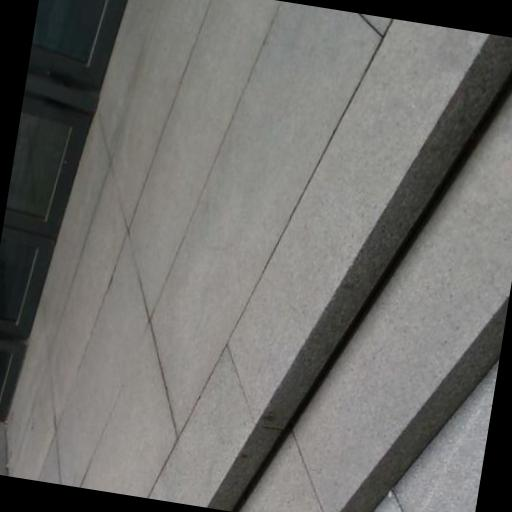stairs: (152, 19, 511, 511)
